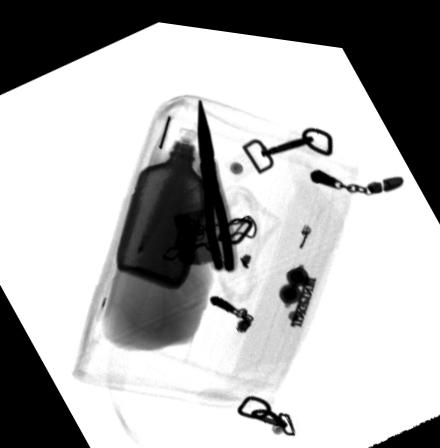Pliers: (196, 90, 237, 267)
